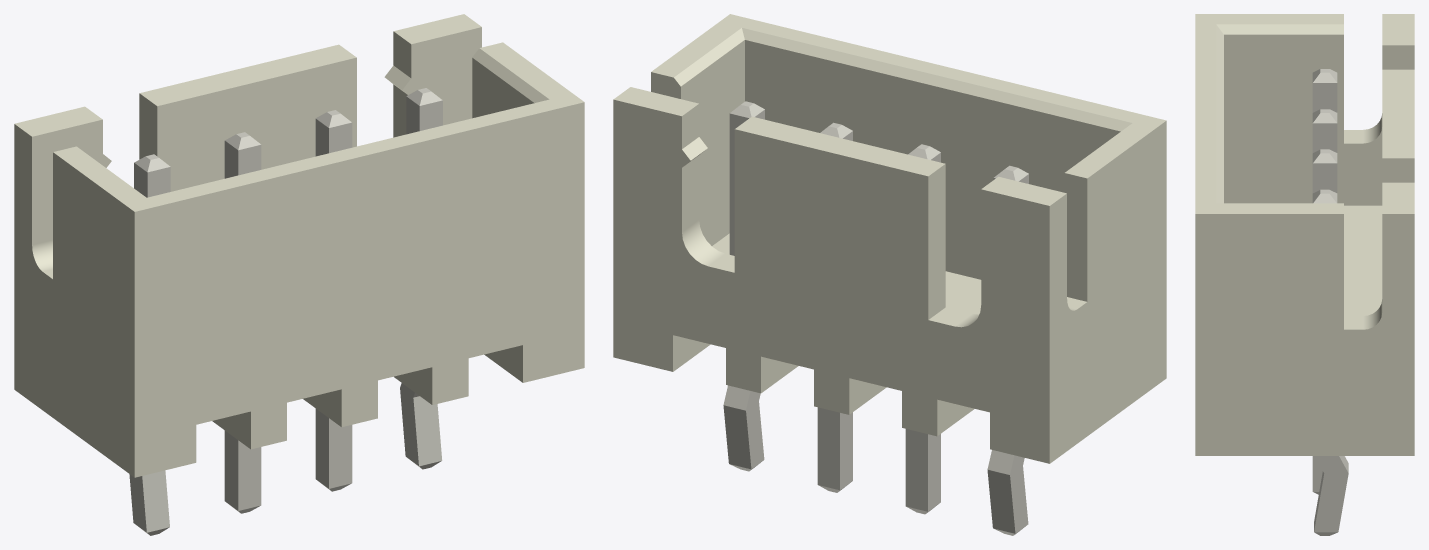
The model's file is JST_XH_B4B-XH-A_1x04_P2.50mm_Vertical.glb.
3 renders of one model, left to right at view 1: azimuth 30°, elevation 25°; view 2: azimuth 150°, elevation 25°; view 3: azimuth 270°, elevation 25°, orthographic. The views are drawn at different scales.
Parts seen in each view (by area): view 1: =>[0:1:1:3]; view 2: =>[0:1:1:3]; view 3: =>[0:1:1:3].
Boxes of the visible parts, left/top/right/bottom form: =>[0:1:1:3]: left=14, top=14, right=584, bottom=535; =>[0:1:1:3]: left=613, top=14, right=1166, bottom=535; =>[0:1:1:3]: left=1195, top=14, right=1414, bottom=535.
Size of the model in its own units: 0.0124 by 0.0104 by 0.00575.
